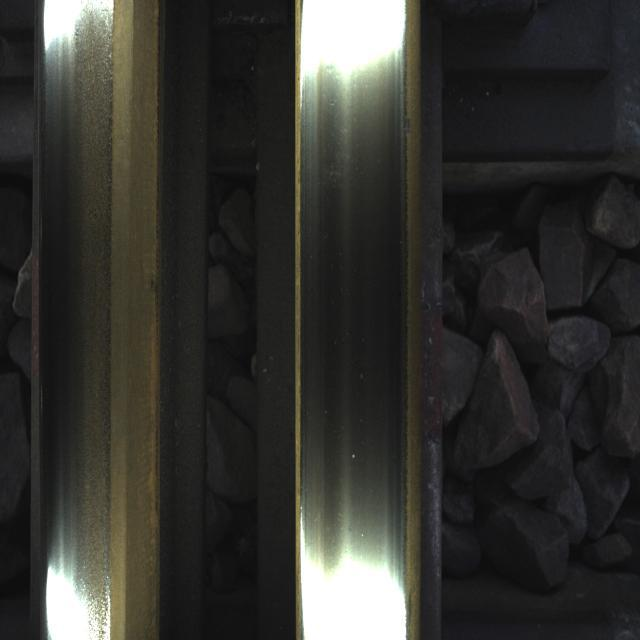break: (300, 5, 406, 627), (32, 2, 112, 636)
